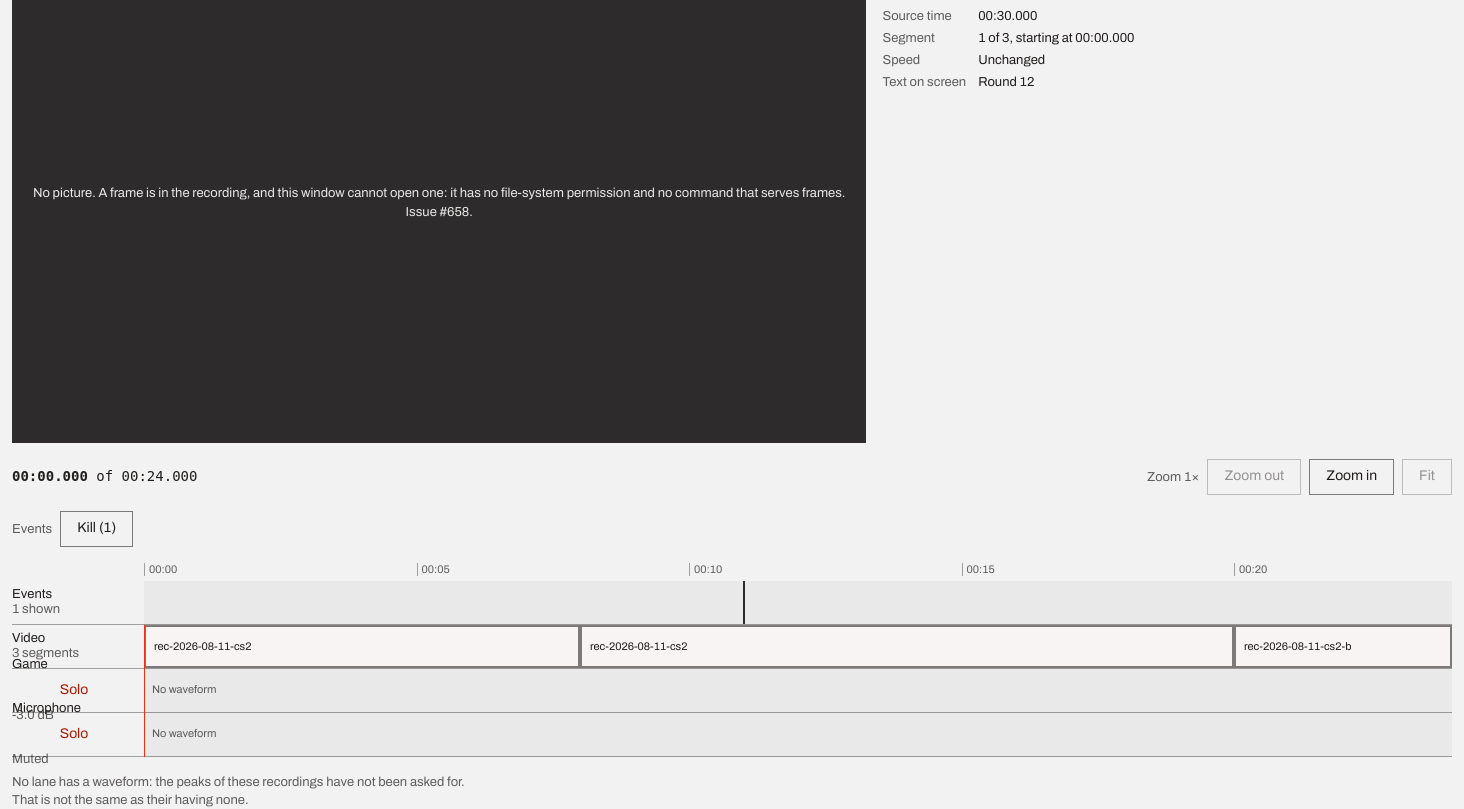
it: events on the timeline › seeks the playhead to a mark when it is clicked
The width and height of the screenshot is (1464, 809).
(page scrolled)
Step 1. Click the button named "Kill at 00:11.000" → (744, 602), box [742,581,744,624]
(page scrolled)
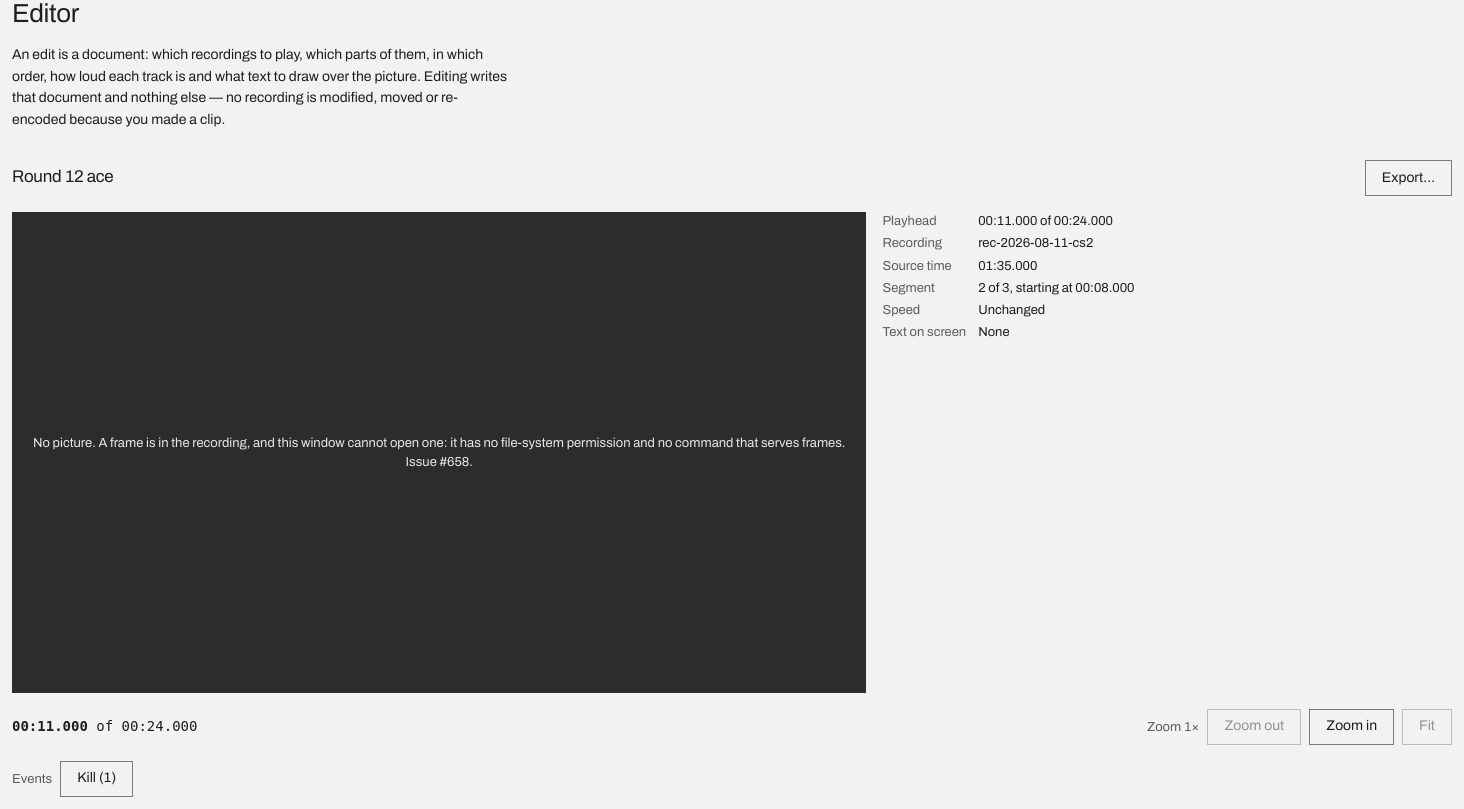
Expected: the text "00:11.000 of 00:24.000" is shown, [978,214,1113,228]
